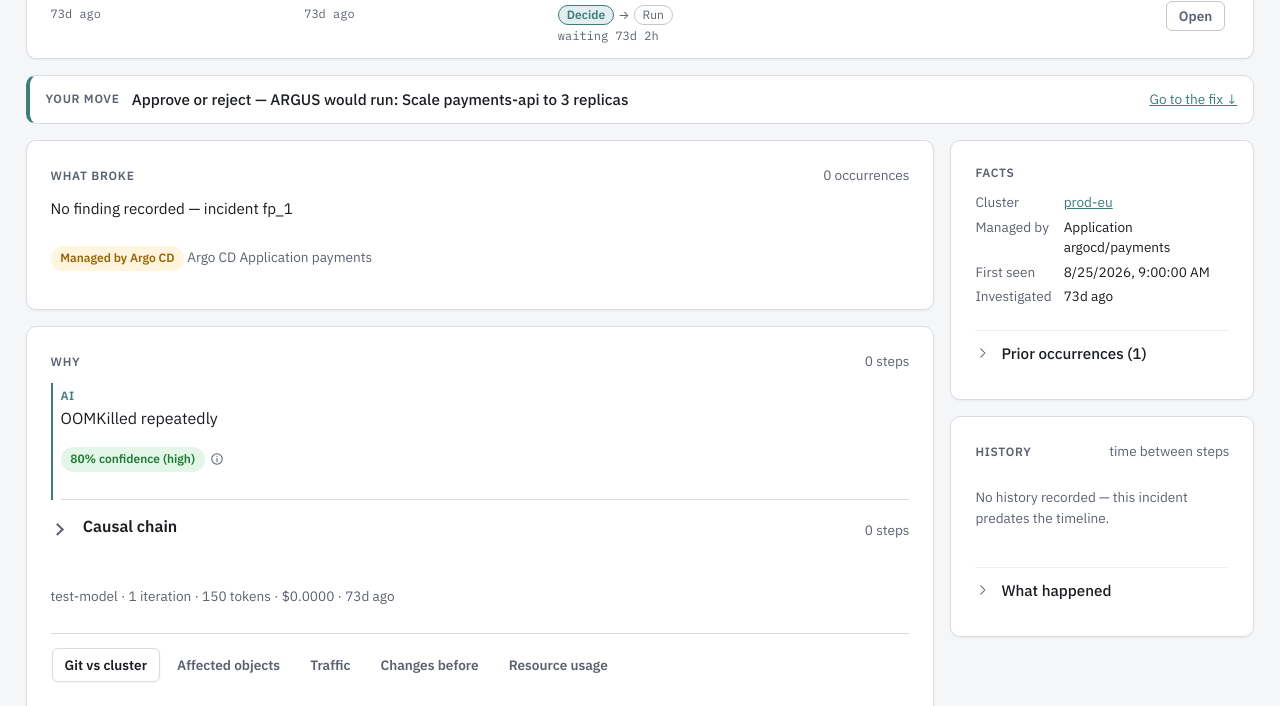
Scenario: IncidentDetailPage — prior occurrences on this object (PROJECT.md T7) › says a prior incident closed with no analysis honestly, rather than inventing a root cause
The image size is (1280, 706).
(page scrolled)
Expected: the element "What broke" is shown, top-left (26, 140), bottom-right (934, 310)
Click the button "Prior occurrences (1)" at [1102, 353], box top-left (975, 330), bottom-right (1229, 375)
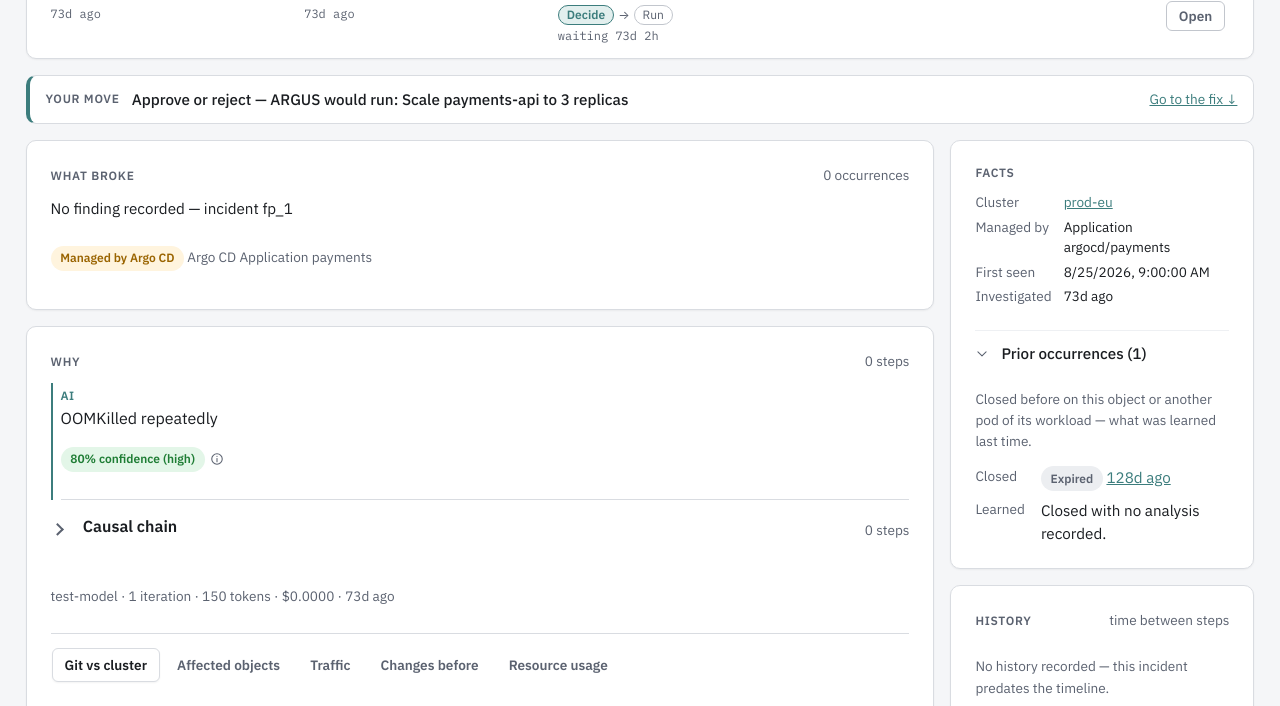
Result: the text "Closed with no analysis recorded." is shown at top-left (1041, 500), bottom-right (1200, 543)
Result: the text "Expired" is shown at top-left (1041, 466), bottom-right (1103, 491)
